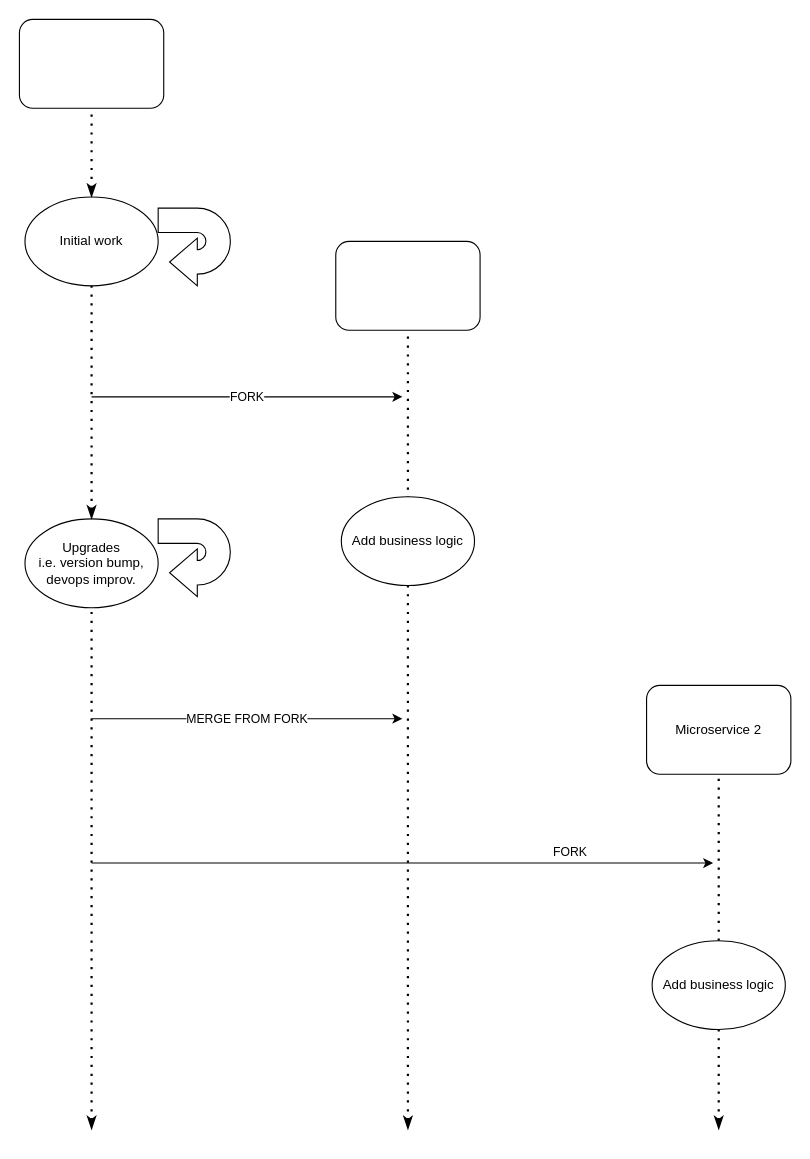
This 810x1159 diagram has some shape labels left out. The shapes that lost their labels are listed below. From the top down, each one's centre as x and y in pixels, then its label:
At point (91, 63): "Microservices skeleton".
At point (407, 285): "Microservice 1".
